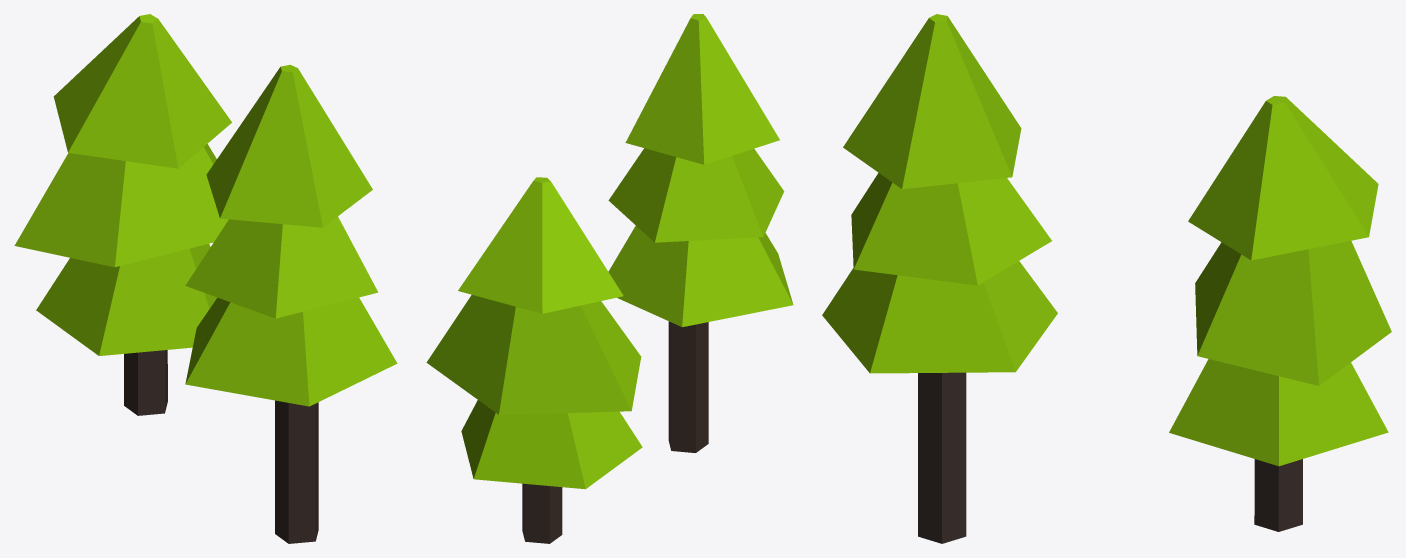
Rendered from trees.fbx.
3 views of the same model, side by side, from view 1: azimuth 30°, elevation 25°; view 2: azimuth 150°, elevation 25°; view 3: azimuth 270°, elevation 25° (orthographic). The views are drawn at different scales.
Visible parts, largest first — view 1: trees; view 2: trees; view 3: trees.
Boxes of the visible parts, x1,y1,x2,y2 form: trees: (14,14,397,543); trees: (426,14,793,543); trees: (822,14,1391,543).
Bounding box in the file's own units: 454 × 901 × 914.
